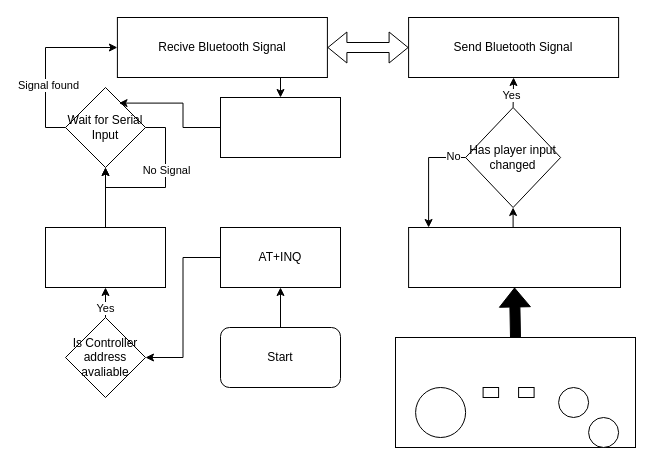
This 653x465 diagram has some shape labels left out. The shapes that lost their labels are listed below. From the top down, each one's centre as x and y in pixels, then its label:
At [280,127]: "Set controller state".
At [105,257]: "Select adress and connect".
At [514,257]: "Apply player input to output byte".
